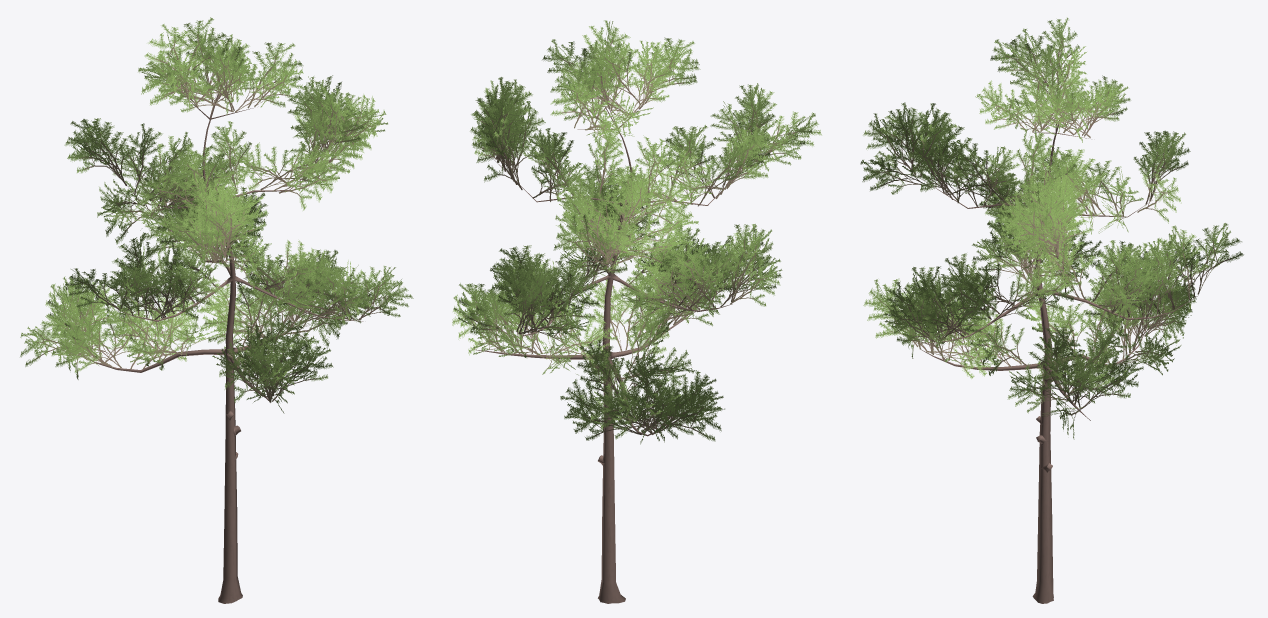
File: tree_Pine_B_M1_LOD0.fbx
3 views of the same model, side by side, from view 1: azimuth 30°, elevation 25°; view 2: azimuth 150°, elevation 25°; view 3: azimuth 270°, elevation 25° (orthographic). The views are drawn at different scales.
Parts seen in each view (by area): view 1: Pine_B_M1_LOD0; view 2: Pine_B_M1_LOD0; view 3: Pine_B_M1_LOD0.
Boxes of the visible parts, box(x1,y1,x2,y2) form: Pine_B_M1_LOD0: box(20, 17, 413, 603); Pine_B_M1_LOD0: box(452, 20, 821, 603); Pine_B_M1_LOD0: box(860, 17, 1243, 603).
Size of the model in its own units: 792 by 1349 by 868.
